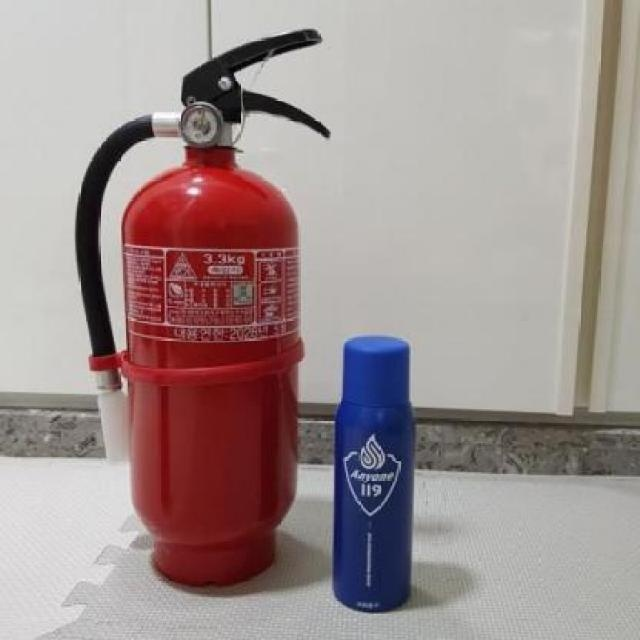fire extinguisher: (73, 28, 332, 586)
